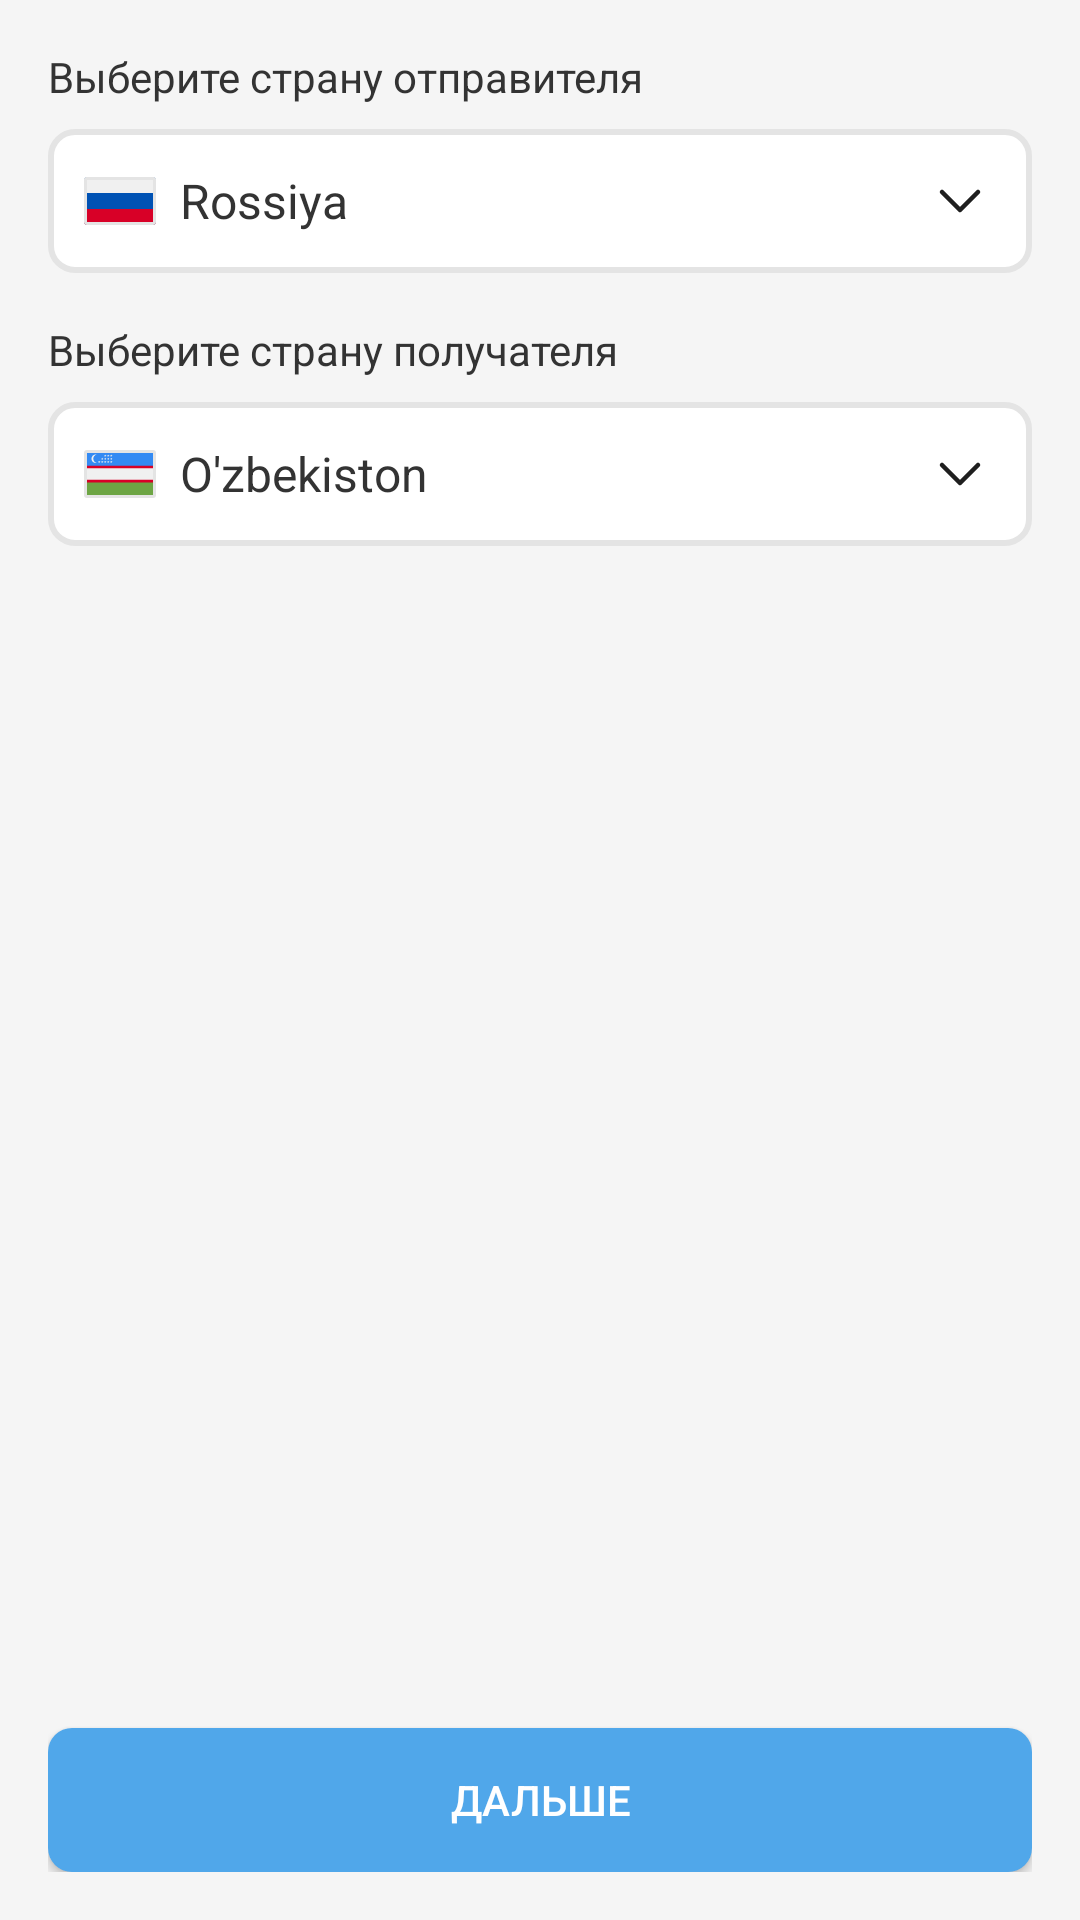

Icons on this 1080px x 1920px Android screen, each with the point to tap as (x=x, y=y):
Receiver Dropdown Icon: (x=960, y=474)
Receiver Flag Icon: (x=120, y=474)
Sender Dropdown Icon: (x=960, y=201)
Sender Flag Icon: (x=120, y=201)
